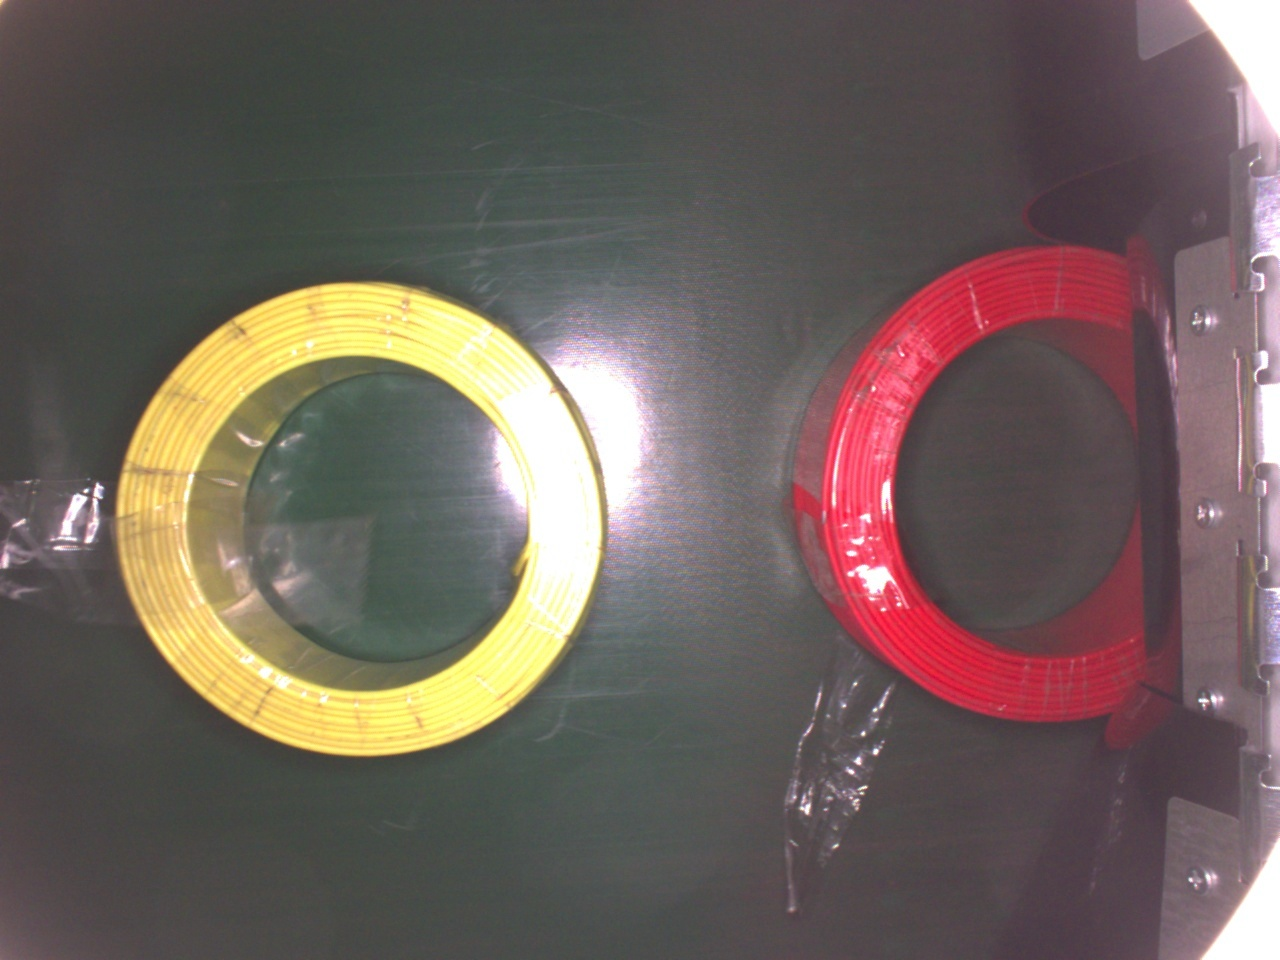red: (790, 237, 1149, 720)
yellow: (110, 279, 608, 762)
